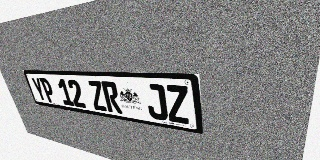1: (56, 79, 75, 106)
2: (66, 79, 86, 108)
J: (144, 83, 169, 121)
P: (39, 78, 57, 103)
R: (101, 81, 123, 114)
Y: (30, 77, 48, 102)
Z: (165, 85, 190, 125), (87, 80, 108, 111)
